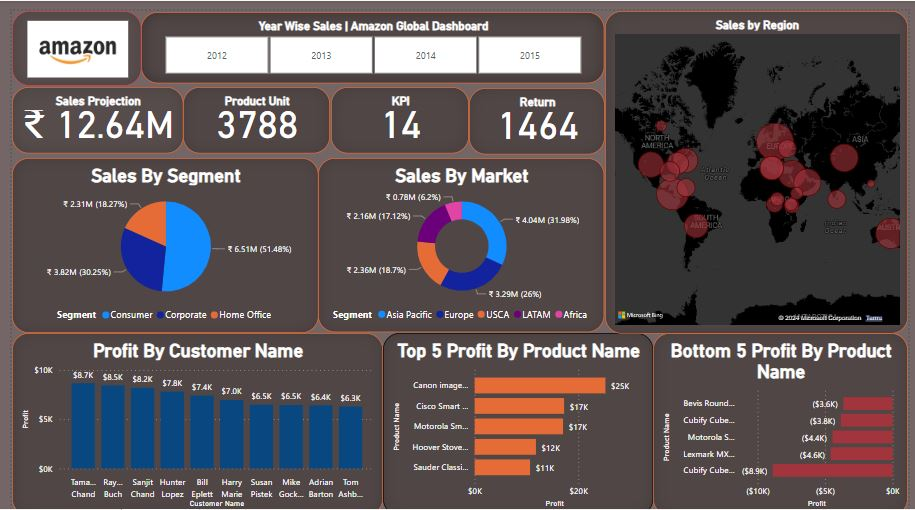

Layout of this report page (visuals, bound fields, positions):
{"tool":"powerbi","page":{"name":"Report","canvas":[1280,720],"ordinal":0},"visuals":[{"type":"slicer","title":"Year Wise Sales | Amazon Global Dashboard","fields":{"Values":["Orders.Year"]},"box":[184.3,1.4,662.4,102.2],"z":0},{"type":"image","box":[0,0,184.5,107.4],"z":1000},{"type":"card","title":"Sales Projection","fields":{"Values":["Orders.Sales"]},"box":[0,108,244.8,95],"z":2000},{"type":"card","title":"Product Unit","fields":{"Values":["Orders.Product Name"]},"box":[244.8,108,210.2,95],"z":3000},{"type":"card","title":"KPI","fields":{"Values":["Orders.Quantity"]},"box":[455,108,197.3,95],"z":4000},{"type":"card","title":"Return","fields":{"Values":["Orders.Ship Date"]},"box":[652.3,109.4,194.4,95],"z":5000},{"type":"pieChart","title":"Sales By Segment","fields":{"Y":["Orders.Sales"],"Category":["Orders.Segment"]},"box":[0,209.7,437.9,250],"z":6000},{"type":"donutChart","title":"Sales By Market","fields":{"Y":["Orders.Sales"],"Category":["Orders.Market"]},"box":[437.8,210.2,409,249.1],"z":6001},{"type":"columnChart","title":"Profit By Customer Name","fields":{"Category":["Orders.Customer Name"],"Y":["Orders.Profit"]},"box":[0,459.4,529.9,260.6],"z":6002},{"type":"clusteredBarChart","title":"Top 5 Profit By Product Name","fields":{"Y":["Orders.Profit"],"Category":["Orders.Product Name"]},"box":[529.9,459.4,385.9,260.6],"z":6003},{"type":"clusteredBarChart","title":"Bottom 5 Profit By Product Name","fields":{"Y":["Orders.Profit"],"Category":["Orders.Product Name"]},"box":[915.8,459.4,364.3,260.6],"z":6004},{"type":"map","title":"Sales by Region","fields":{"Category":["Orders.Region"],"Size":["Orders.Sales"]},"box":[846.7,0,433.4,460.8],"z":6005}]}

Visuals, with their boxes in screenshot pixels (x1, y1, x2, y2), scaled from the page's 1280x720 canvas onto the 915x510 screenshot:
"Year Wise Sales | Amazon Global Dashboard" slicer: 132:1:605:73
image: 0:0:132:76
"Sales Projection" card: 0:76:175:144
"Product Unit" card: 175:76:325:144
"KPI" card: 325:76:466:144
"Return" card: 466:77:605:145
"Sales By Segment" pieChart: 0:149:313:326
"Sales By Market" donutChart: 313:149:605:325
"Profit By Customer Name" columnChart: 0:325:379:509
"Top 5 Profit By Product Name" clusteredBarChart: 379:325:655:509
"Bottom 5 Profit By Product Name" clusteredBarChart: 655:325:914:509
"Sales by Region" map: 605:0:914:326
